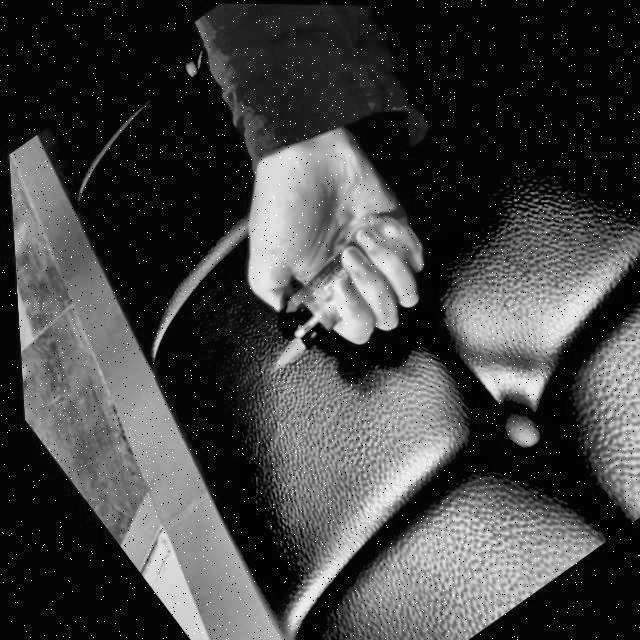Fire: (264, 334, 305, 369)
